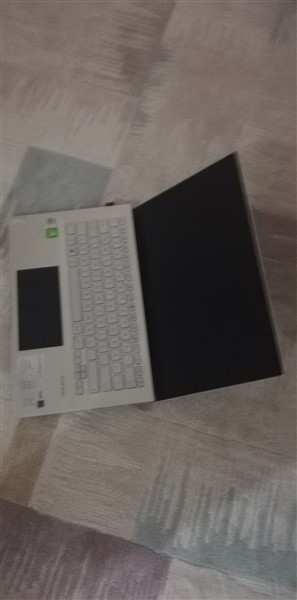laptop: (4, 155, 293, 414)
